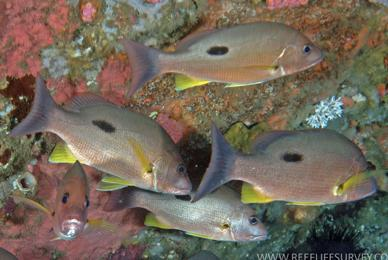Lutjanidae -Snappers-: (3, 69, 193, 198), (190, 115, 385, 210), (118, 18, 328, 103)
